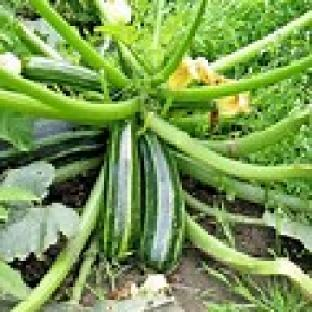Zucchini: (141, 133, 184, 270), (0, 120, 106, 171), (102, 123, 140, 260), (21, 58, 101, 90)
